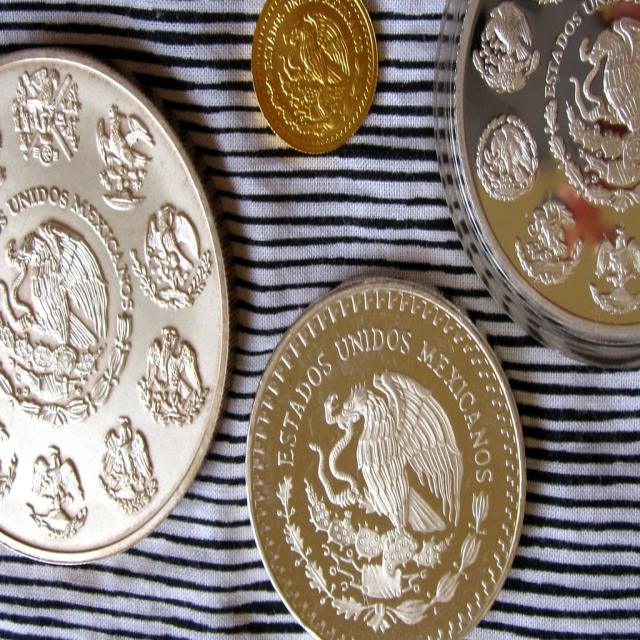Coin: (0, 43, 227, 564), (241, 279, 530, 639), (432, 0, 640, 361), (249, 0, 380, 153)
